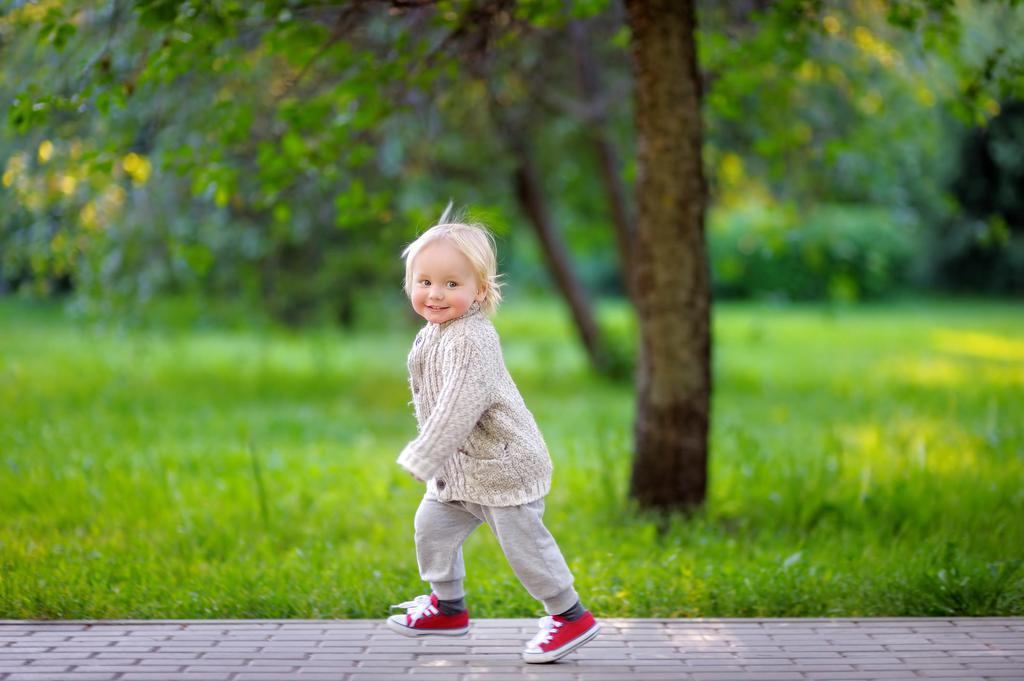child: (339, 204, 627, 663)
